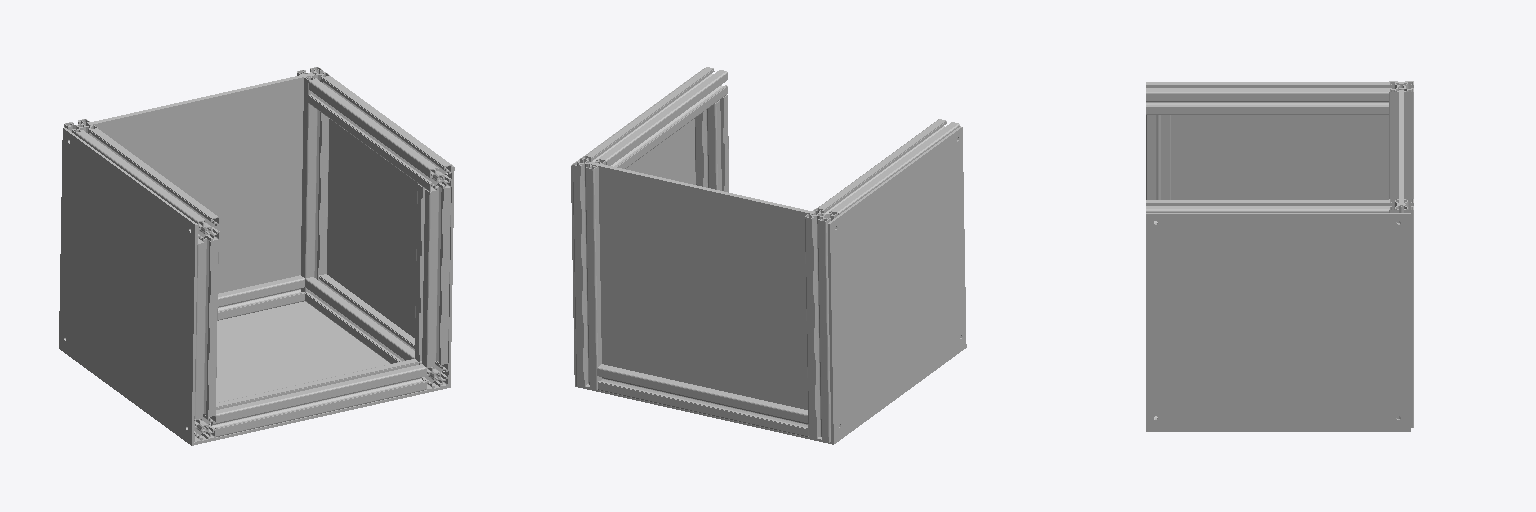
Rendered from Vision_Stand_Part_1.obj.
3 views of the same model, side by side, from view 1: azimuth 30°, elevation 25°; view 2: azimuth 150°, elevation 25°; view 3: azimuth 270°, elevation 25° (orthographic).
Parts seen in each view (by area): view 1: Solid1, Solid1:3, Solid1:1, Solid1:2, Těleso2:7, Těleso2:8, Těleso2:6, Těleso2:3, Těleso2:2, Těleso2:9, Těleso2:5, Těleso2:1; view 2: Solid1:3, Solid1, Těleso2:3, Těleso2:1, Těleso2, Těleso2:6, Solid1:1, Těleso2:5, Těleso2:8, Solid1:2; view 3: Solid1:1, Solid1, Těleso2:5, Těleso2:6, Těleso2, Těleso2:9, Těleso2:3, Solid1:3, Solid1:2.
Part boxes in pixels (x1,y1,x2,y2): Solid1: (59,127,197,442); Solid1:3: (87,73,314,293); Solid1:1: (323,71,454,385); Solid1:2: (59,301,450,445); Těleso2:7: (209,359,426,436); Těleso2:8: (415,184,450,366); Těleso2:6: (308,76,451,191); Těleso2:3: (297,67,329,301); Těleso2:2: (305,274,448,389); Těleso2:9: (194,237,218,418); Těleso2:5: (76,128,219,244); Těleso2:1: (218,275,304,320); Solid1:3: (588,162,815,409); Solid1: (828,126,966,441); Těleso2:3: (572,156,605,389); Těleso2:1: (597,364,808,436); Těleso2: (805,208,837,442); Těleso2:6: (586,67,727,168); Solid1:1: (571,69,702,383); Těleso2:5: (818,119,959,214); Těleso2:8: (695,95,728,192); Solid1:2: (575,345,966,444); Solid1:1: (1146,213,1410,429); Solid1: (1171,82,1403,199); Těleso2:5: (1146,82,1388,114); Těleso2:6: (1146,200,1388,223); Těleso2: (1389,81,1413,198); Těleso2:9: (1146,115,1170,199); Těleso2:3: (1389,199,1413,427); Solid1:3: (1399,90,1403,205); Solid1:2: (1146,430,1410,431).
Bounding box in the file's own units: 538 × 445 × 475.